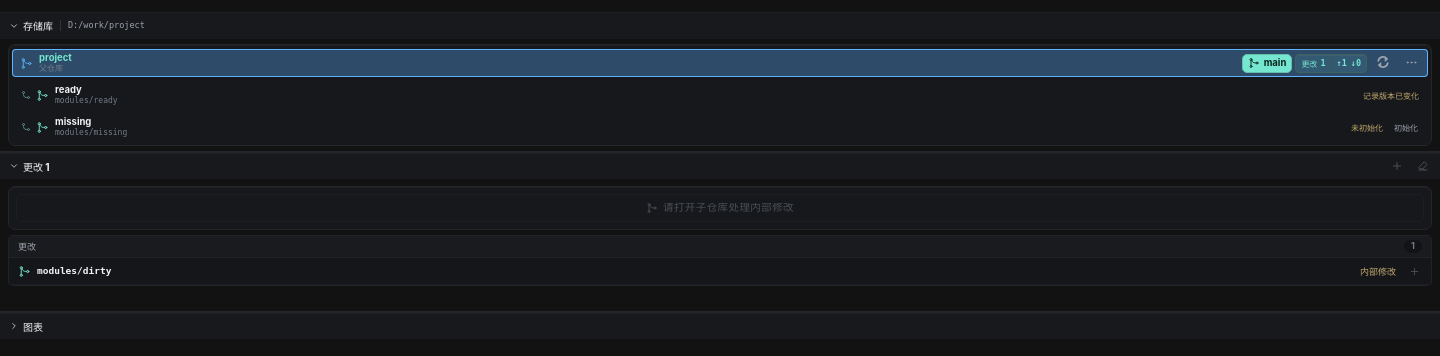
Test: GitPane submodules › prevents dirty-only submodules from being staged or discarded in the parent
The width and height of the screenshot is (1440, 356).
expect the button named "暂存 modules/dirty" is disabled: met, box [1402, 260, 1426, 282]
expect the button named "暂存全部更改" is disabled: met, box [1385, 154, 1409, 178]
Right-click the list item "modules/dirty" at [720, 272], box [9, 258, 1431, 285]
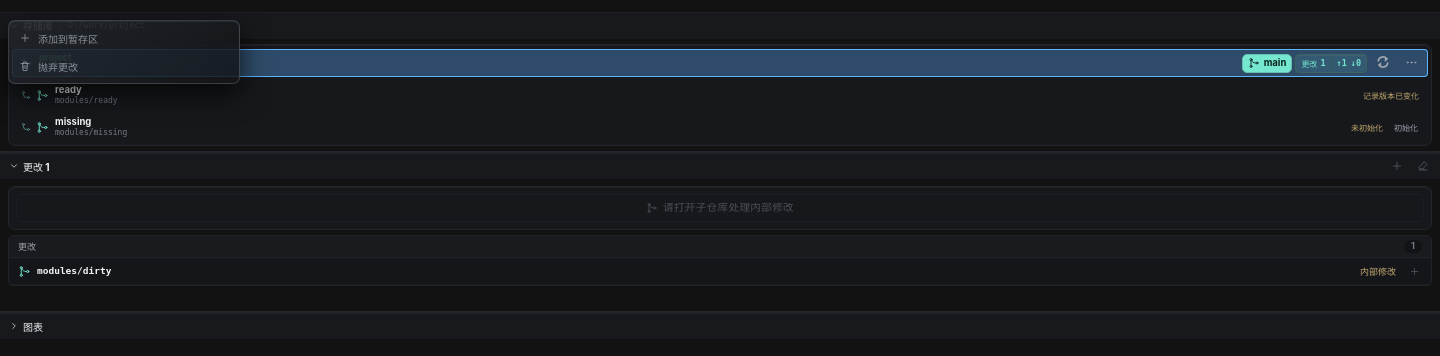
expect the menu item "添加到暂存区" is disabled: met, box [12, 24, 236, 52]
expect the menu item "抛弃更改" is disabled: met, box [12, 52, 236, 80]
